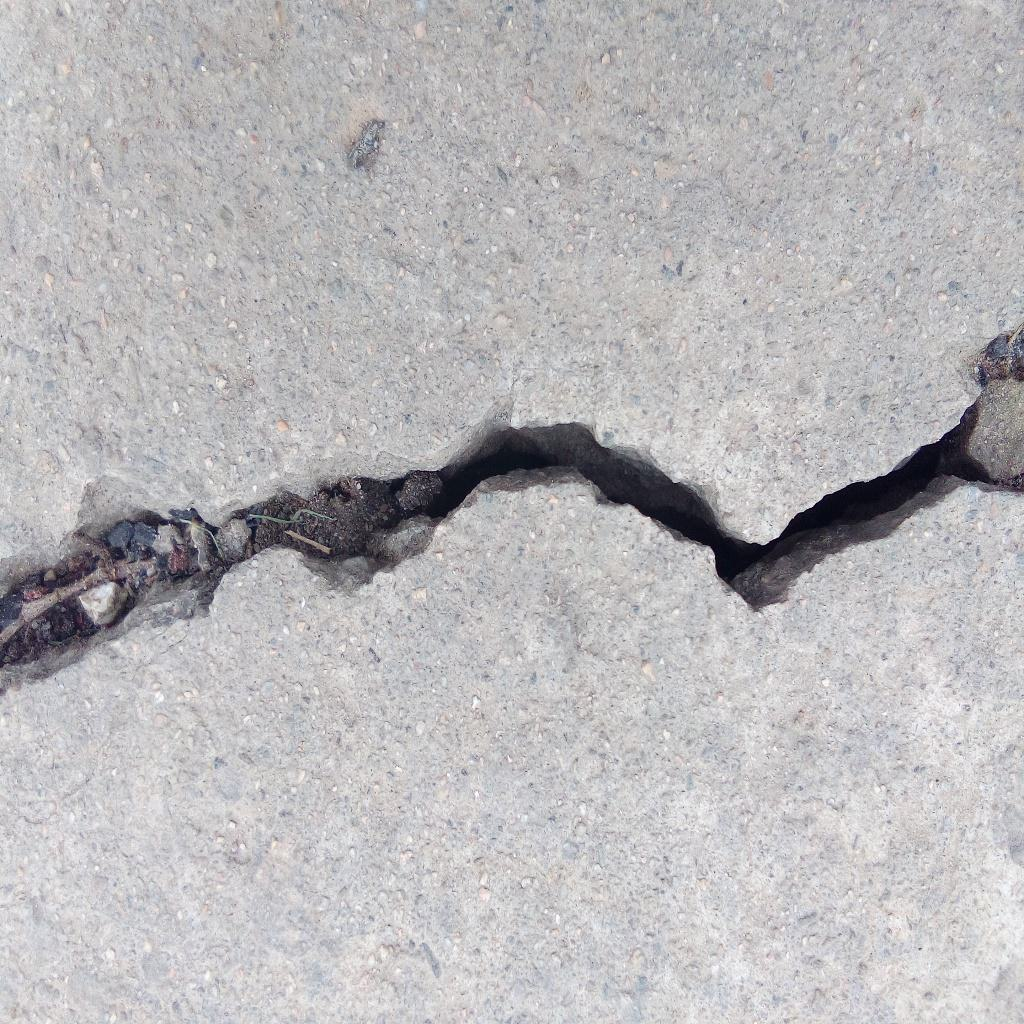Crack: (1, 328, 1024, 696)
